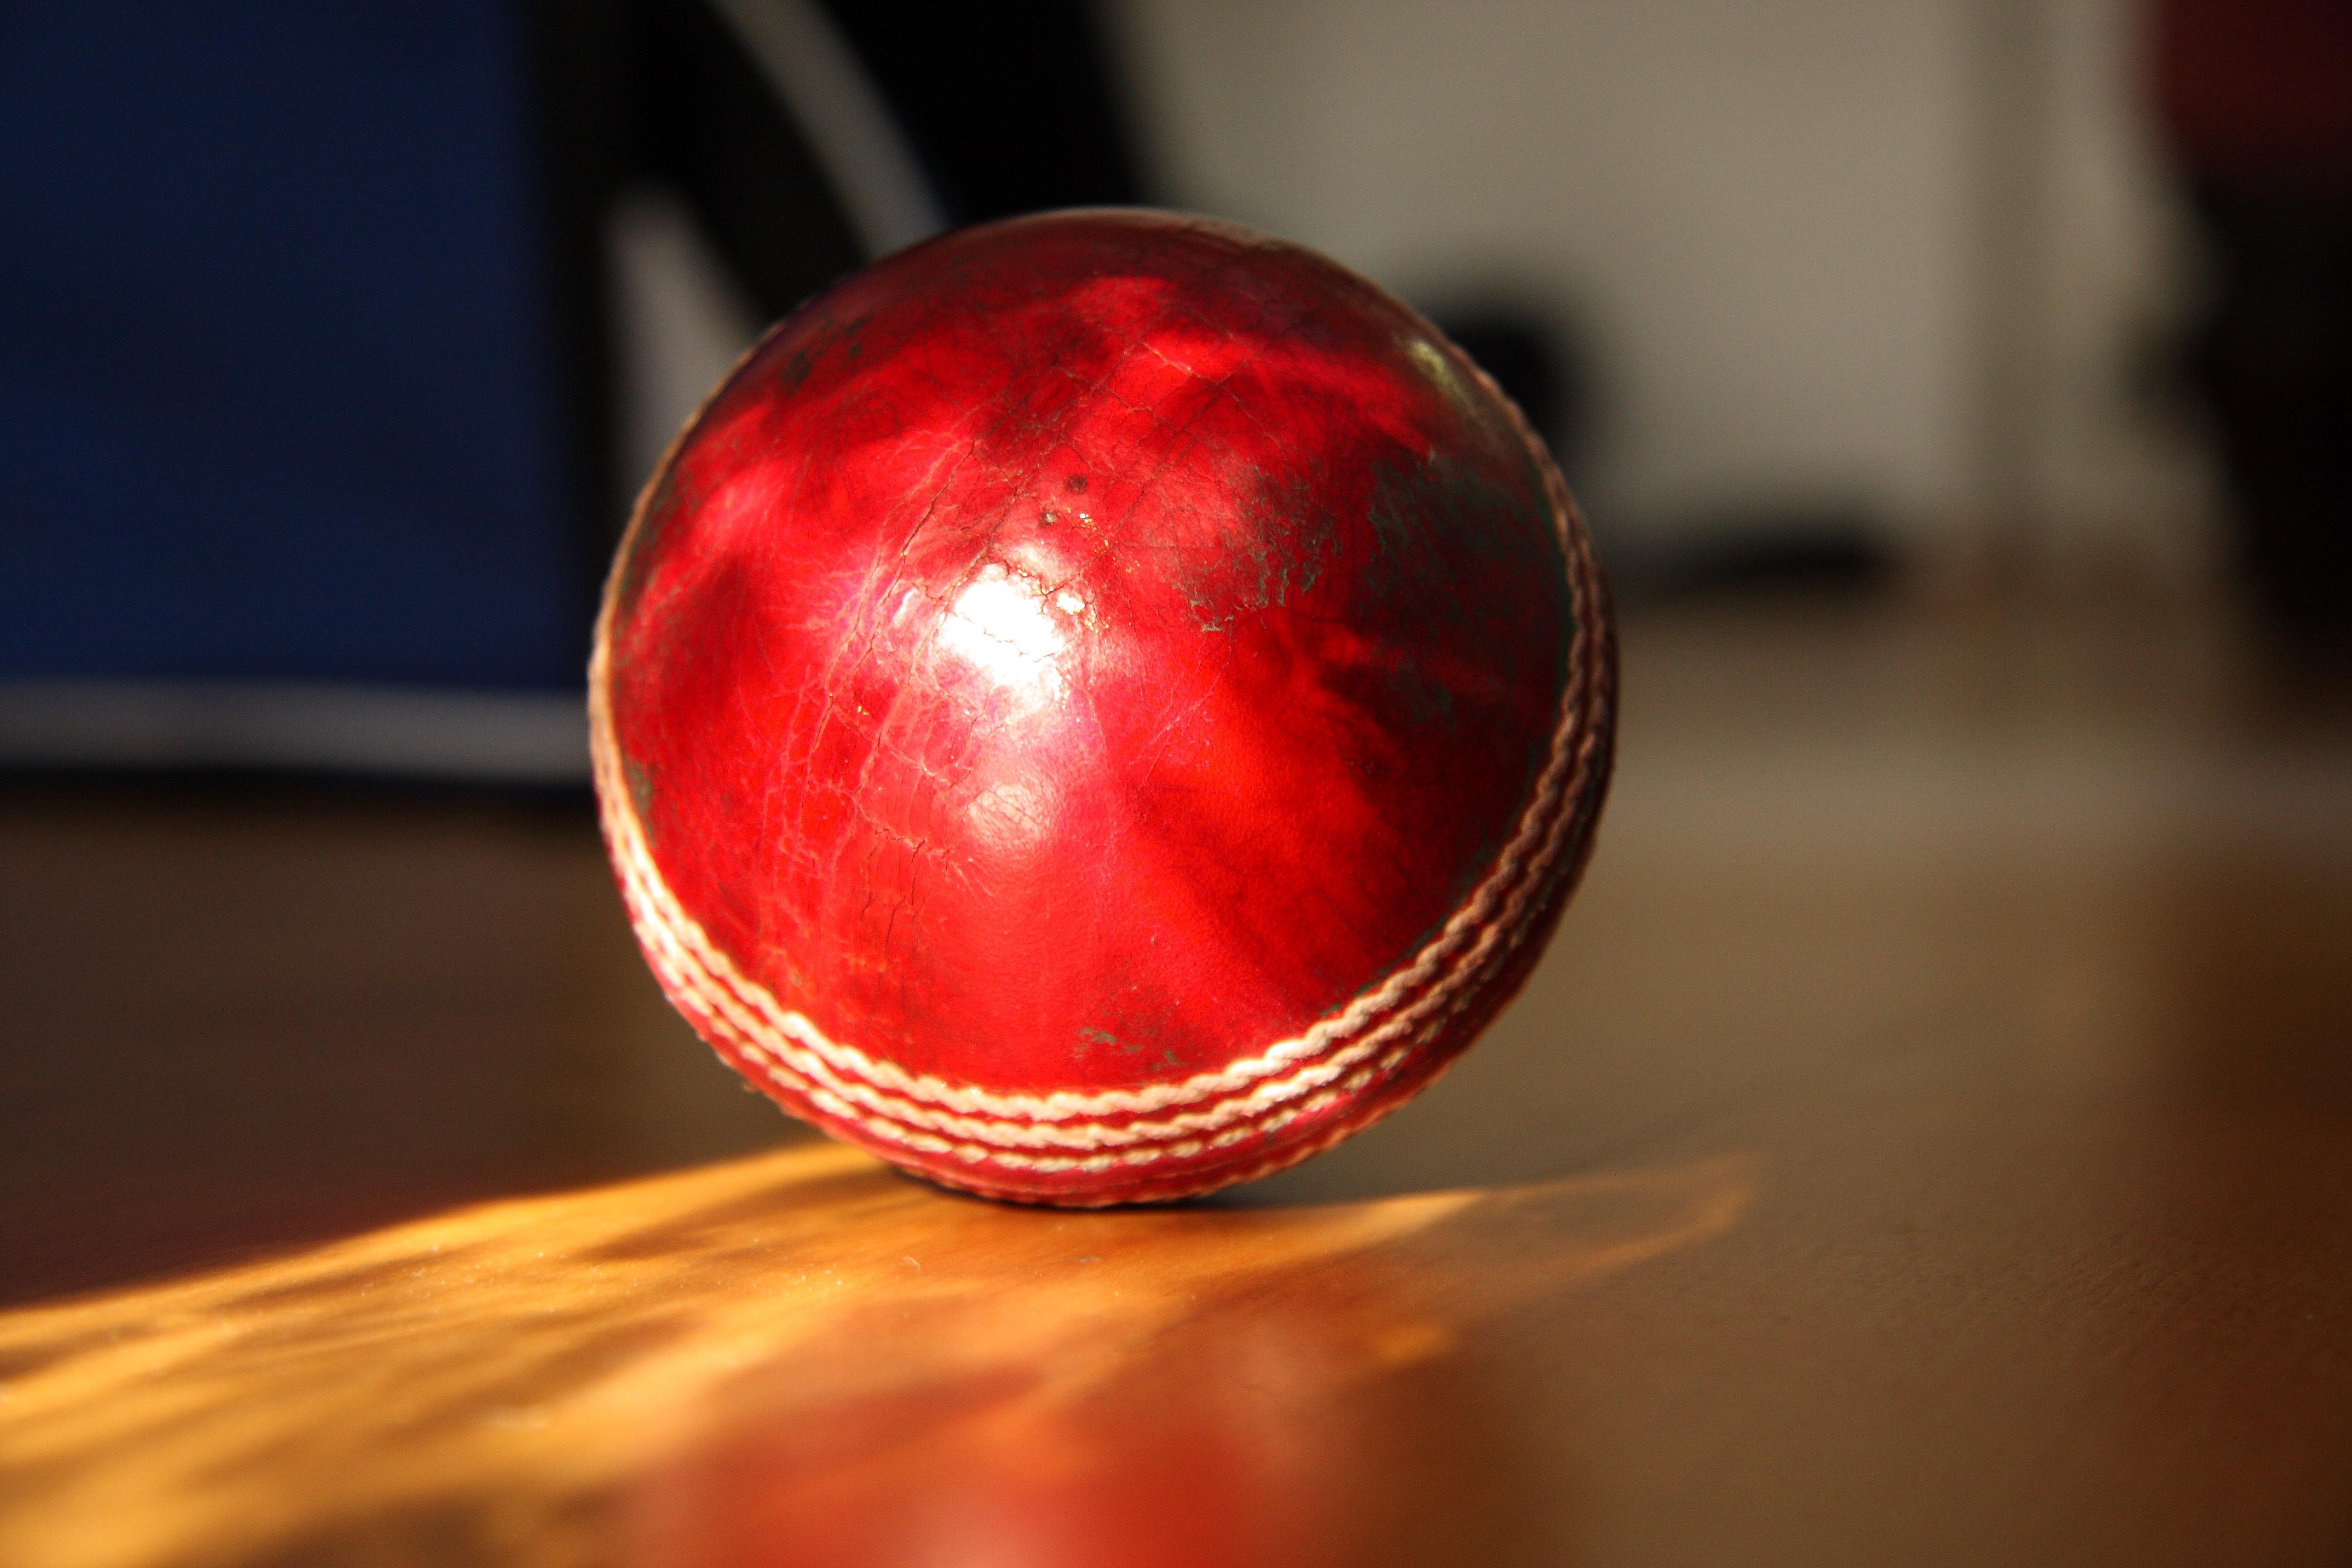Red_Ball: (532, 217, 1626, 1202)
